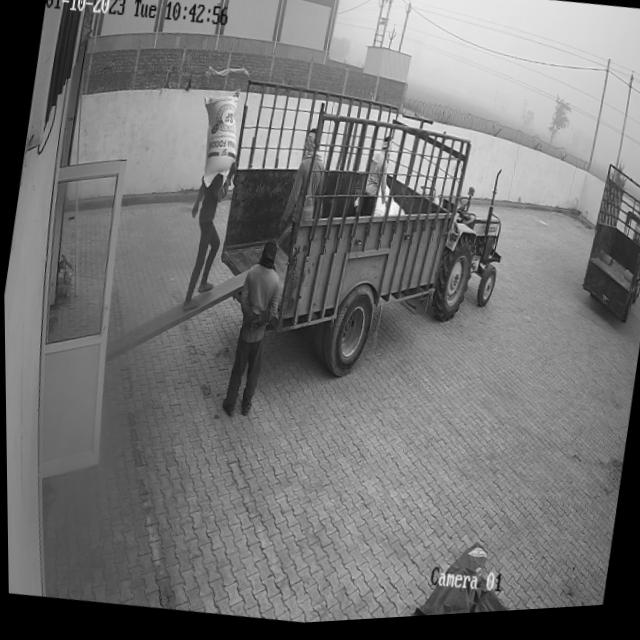sack: (190, 86, 244, 197)
